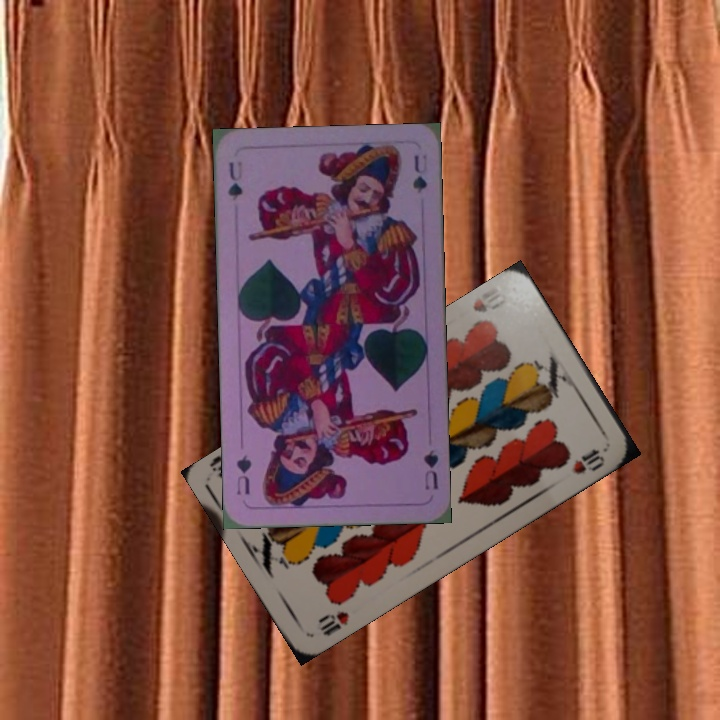GU: (419, 446, 441, 492), (224, 157, 245, 203)
H10: (468, 284, 510, 316), (314, 607, 352, 639)
